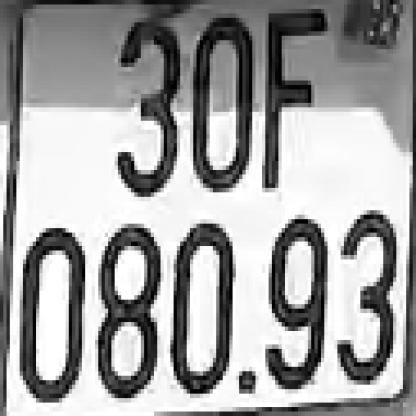0: (20, 224, 89, 398), (193, 18, 252, 197), (174, 219, 229, 389)
3: (115, 27, 180, 197), (334, 206, 393, 385)
8: (98, 214, 160, 393)
9: (262, 214, 328, 385)
F: (262, 13, 328, 192)
